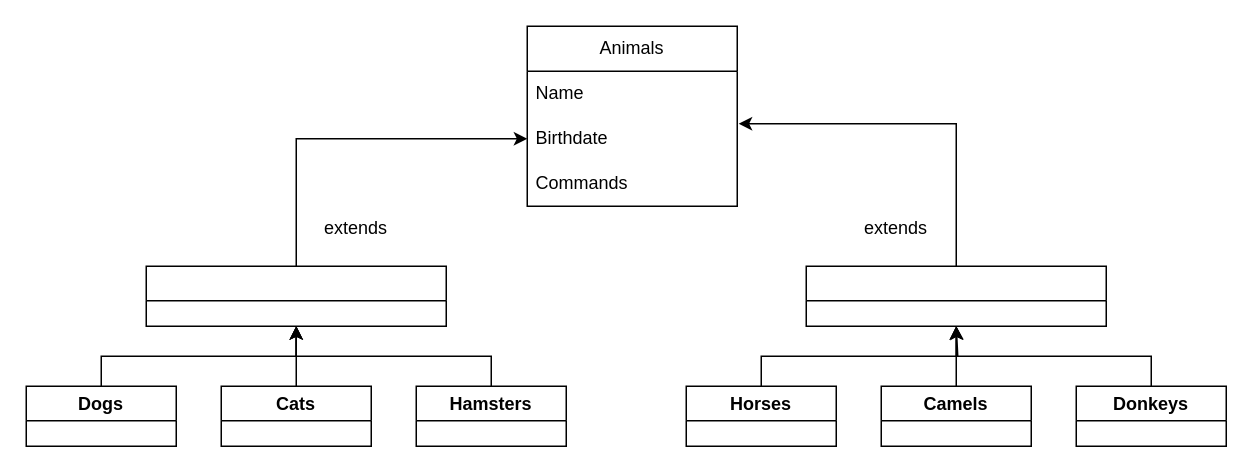
Image size: 1253x473. Some labels were removed from this diagram. The shapes that lost their labels are listed below. From the top down, each one's centre as x and y in pixels, then its label:
At (x=295, y=295): "Pets".
At (x=955, y=295): "Pack animals".
